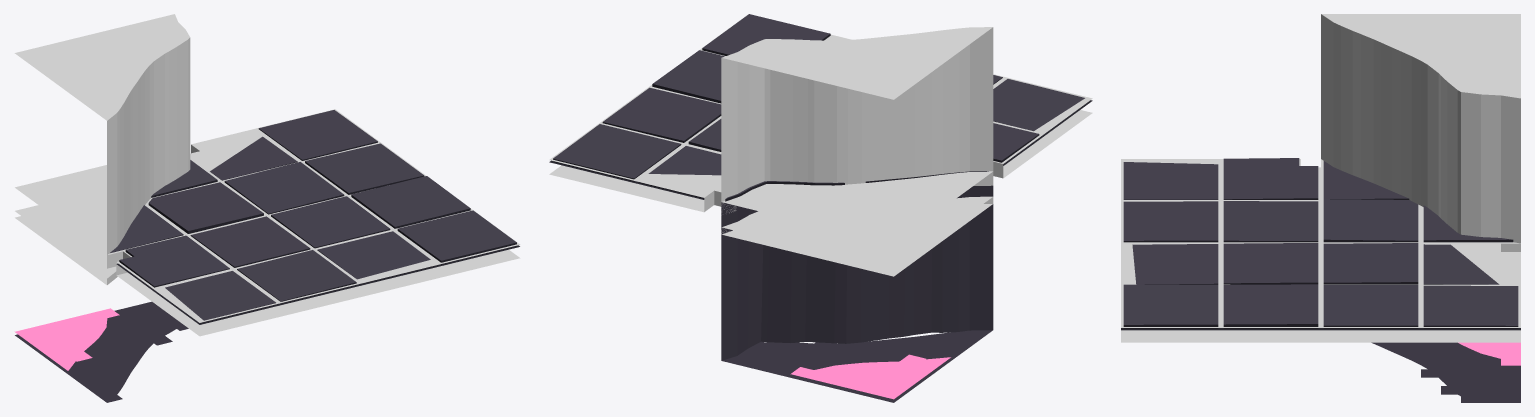
The model's file is Tile_LFFF.fbx.
3 views of the same model, side by side, from view 1: azimuth 30°, elevation 25°; view 2: azimuth 150°, elevation 25°; view 3: azimuth 270°, elevation 25° (orthographic). The views are drawn at different scales.
Parts seen in each view (by area): view 1: Tile_LFFF, Tile_LFFF_ColCrackBlocker, Tile_LFFF_ColGround, Tile_LFFF_ColCrackSurface; view 2: Tile_LFFF, Tile_LFFF_ColCrackBlocker, Tile_LFFF_ColCrackSurface, Tile_LFFF_ColGround; view 3: Tile_LFFF, Tile_LFFF_ColCrackBlocker, Tile_LFFF_ColGround.
Boxes of the visible parts, left/top/right/bottom form: Tile_LFFF: left=14, top=110, right=519, bottom=402; Tile_LFFF_ColCrackBlocker: left=14, top=14, right=190, bottom=254; Tile_LFFF_ColGround: left=107, top=109, right=520, bottom=336; Tile_LFFF_ColCrackSurface: left=15, top=205, right=117, bottom=284; Tile_LFFF: left=549, top=14, right=1092, bottom=402; Tile_LFFF_ColCrackBlocker: left=721, top=27, right=993, bottom=243; Tile_LFFF_ColCrackSurface: left=721, top=196, right=993, bottom=276; Tile_LFFF_ColGround: left=549, top=14, right=1092, bottom=213; Tile_LFFF: left=1121, top=158, right=1520, bottom=402; Tile_LFFF_ColCrackBlocker: left=1321, top=14, right=1520, bottom=243; Tile_LFFF_ColGround: left=1121, top=159, right=1520, bottom=342.
Bounding box in the file's own units: 5 × 4.2 × 5.
